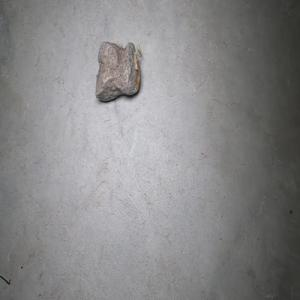Rock: (95, 41, 141, 101)
